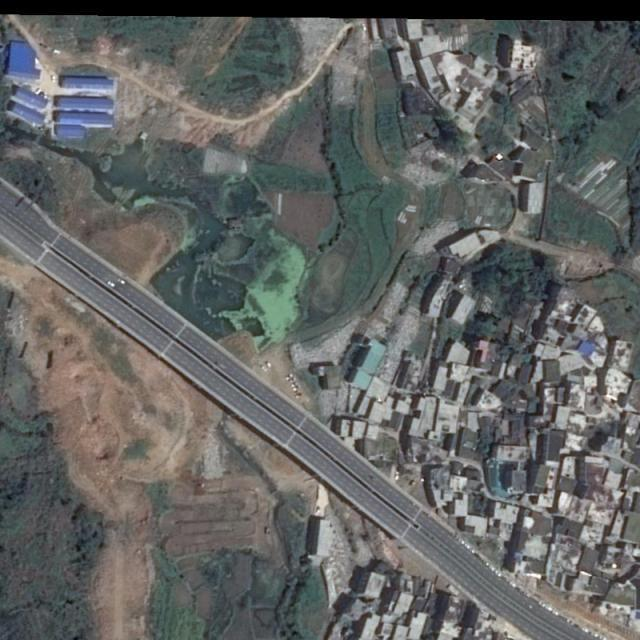vehicle: (589, 629, 600, 640), (106, 280, 117, 289), (458, 536, 466, 546), (493, 570, 503, 578), (507, 579, 515, 589), (117, 278, 126, 286), (545, 606, 554, 614), (598, 634, 610, 640), (552, 609, 559, 617), (582, 627, 590, 634)
